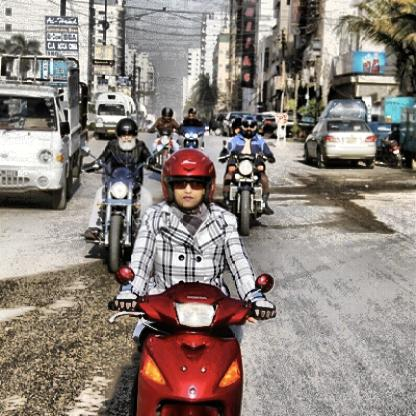wear: (164, 148, 216, 211), (117, 121, 135, 148), (236, 115, 256, 135), (158, 105, 174, 124), (183, 110, 197, 122)
